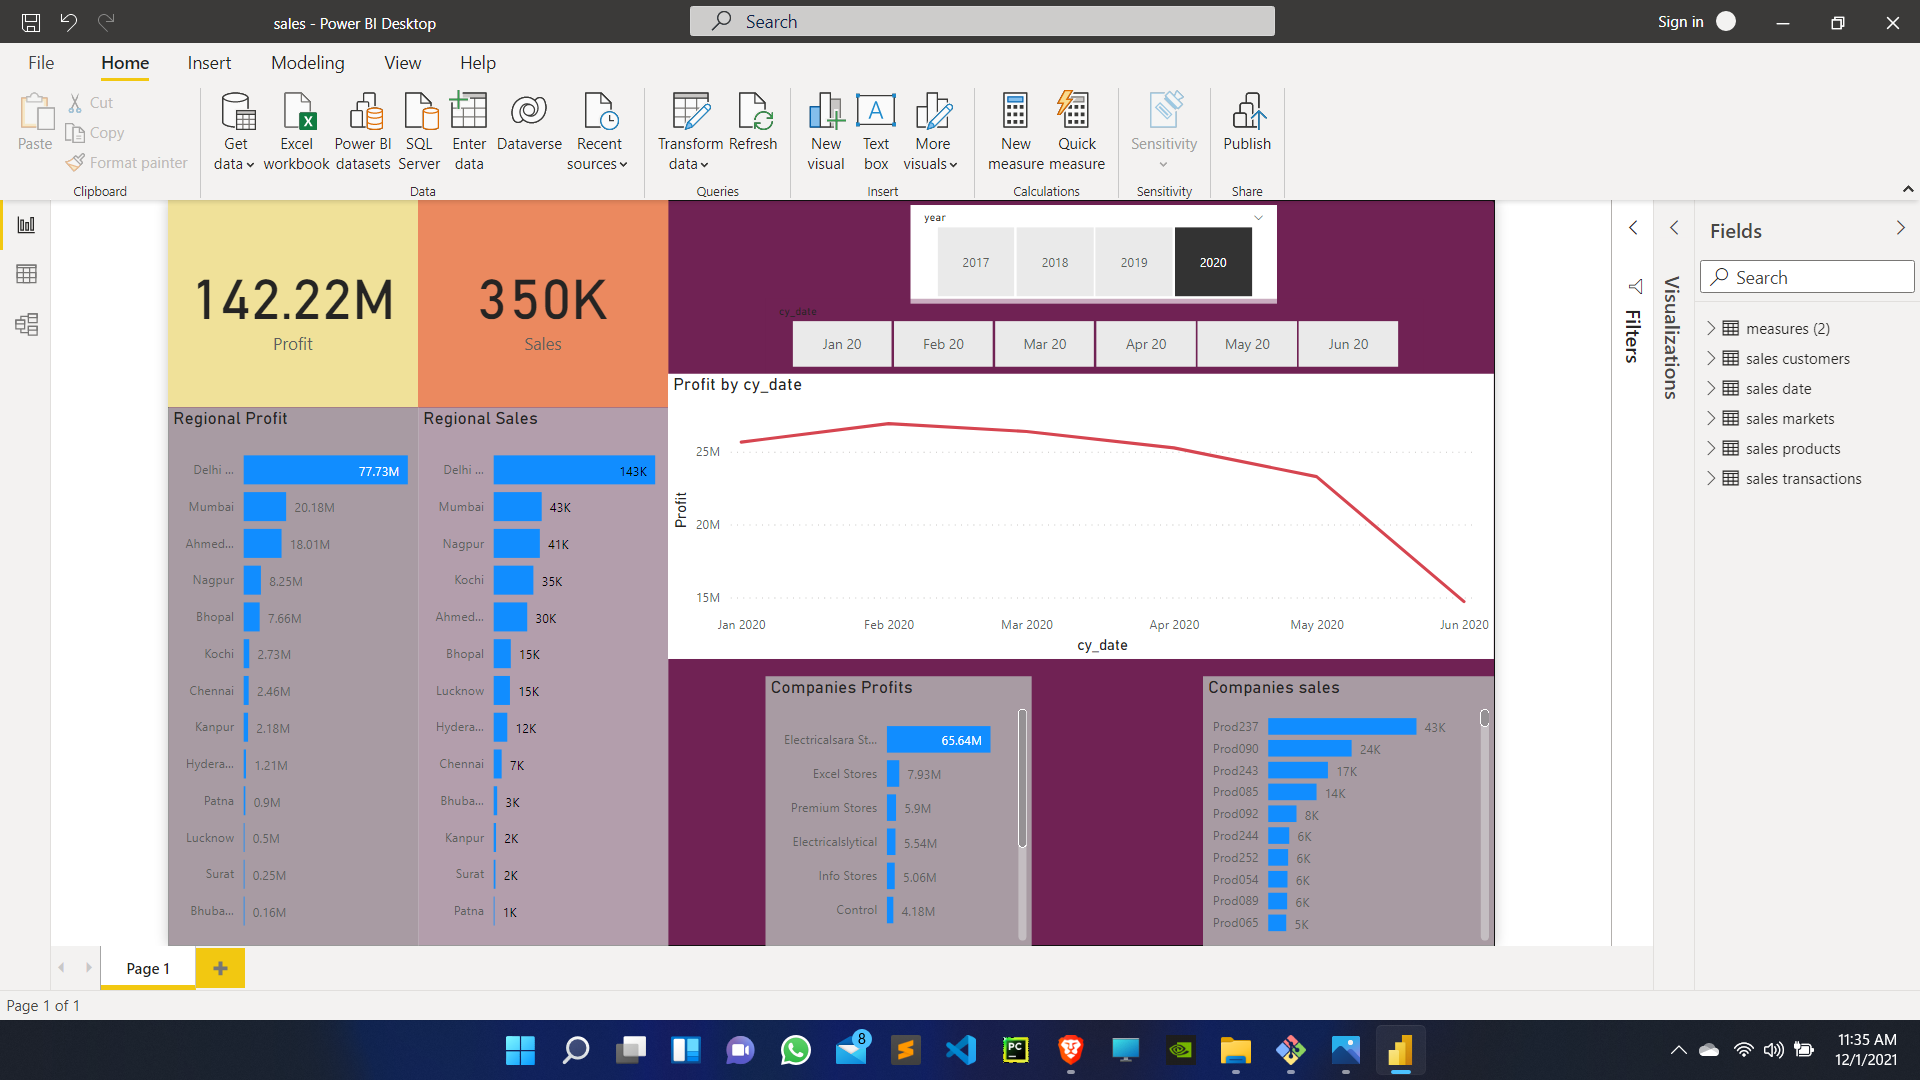

Layout of this report page (visuals, bound fields, positions):
{"tool":"powerbi","page":{"name":"Page 1","canvas":[1280,720],"ordinal":0},"visuals":[{"type":"card","fields":{"Values":["measures (2).Profit"]},"box":[0,0,241.2,200.2],"z":0},{"type":"card","fields":{"Values":["measures (2).Sales"]},"box":[241.2,0,241.2,200.2],"z":1000},{"type":"barChart","title":"Regional Profit","fields":{"Y":["measures (2).Profit"],"Category":["sales markets.markets_name"]},"box":[0,200.2,241.2,519.8],"z":2000},{"type":"barChart","title":"Regional Sales","fields":{"Y":["measures (2).Sales"],"Category":["sales markets.markets_name"]},"box":[241.2,200.2,241.2,519.8],"z":3000},{"type":"slicer","fields":{"Values":["sales date.year"]},"box":[716.4,4.8,353.4,95.3],"z":4000},{"type":"slicer","fields":{"Values":["sales date.cy_date"]},"box":[576.5,95.3,634.4,72.4],"z":5000},{"type":"barChart","title":"Companies Profits","fields":{"Y":["measures (2).Profit"],"Category":["sales customers.custmer_name"]},"box":[576.5,459.5,256.9,260.5],"z":6000},{"type":"barChart","title":"Companies sales","fields":{"Y":["measures (2).Sales"],"Category":["sales products.product_code"]},"box":[998.6,459.5,281,260.5],"z":7000},{"type":"lineChart","fields":{"Y":["measures (2).Profit"],"Category":["sales date.cy_date"]},"box":[482.4,167.6,797.2,275],"z":8000}]}

Visuals, with their boxes on the page's 1280x720 design canvas (x1, y1, x2, y2). These are canvas units, not pixel positions in the 1920x1080 screenshot, which may show the page scaled, cropped or inside an application window:
card - measures (2).Profit: x1=0 y1=0 x2=241 y2=200
card - measures (2).Sales: x1=241 y1=0 x2=482 y2=200
"Regional Profit" barChart: x1=0 y1=200 x2=241 y2=720
"Regional Sales" barChart: x1=241 y1=200 x2=482 y2=720
slicer - sales date.year: x1=716 y1=5 x2=1070 y2=100
slicer - sales date.cy_date: x1=576 y1=95 x2=1211 y2=168
"Companies Profits" barChart: x1=576 y1=460 x2=833 y2=720
"Companies sales" barChart: x1=999 y1=460 x2=1280 y2=720
lineChart - measures (2).Profit x sales date.cy_date: x1=482 y1=168 x2=1280 y2=443
